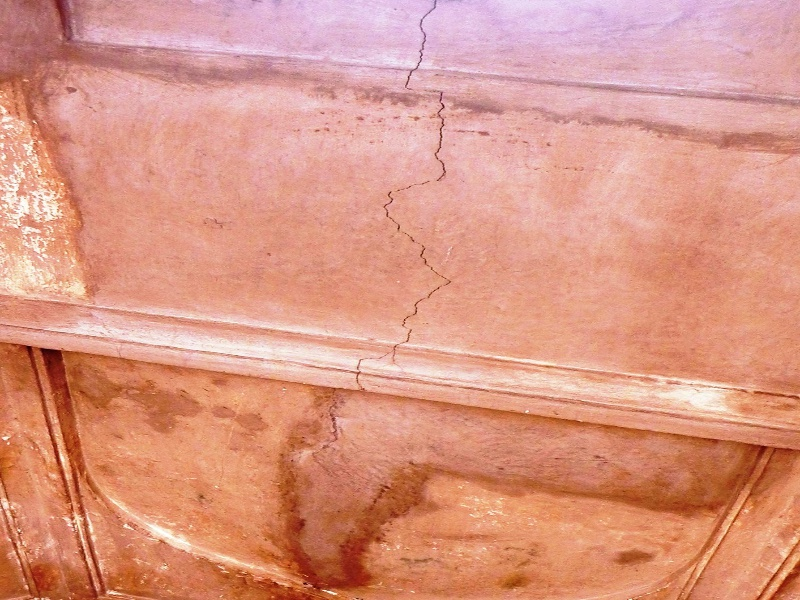Crack: (345, 3, 464, 394)
